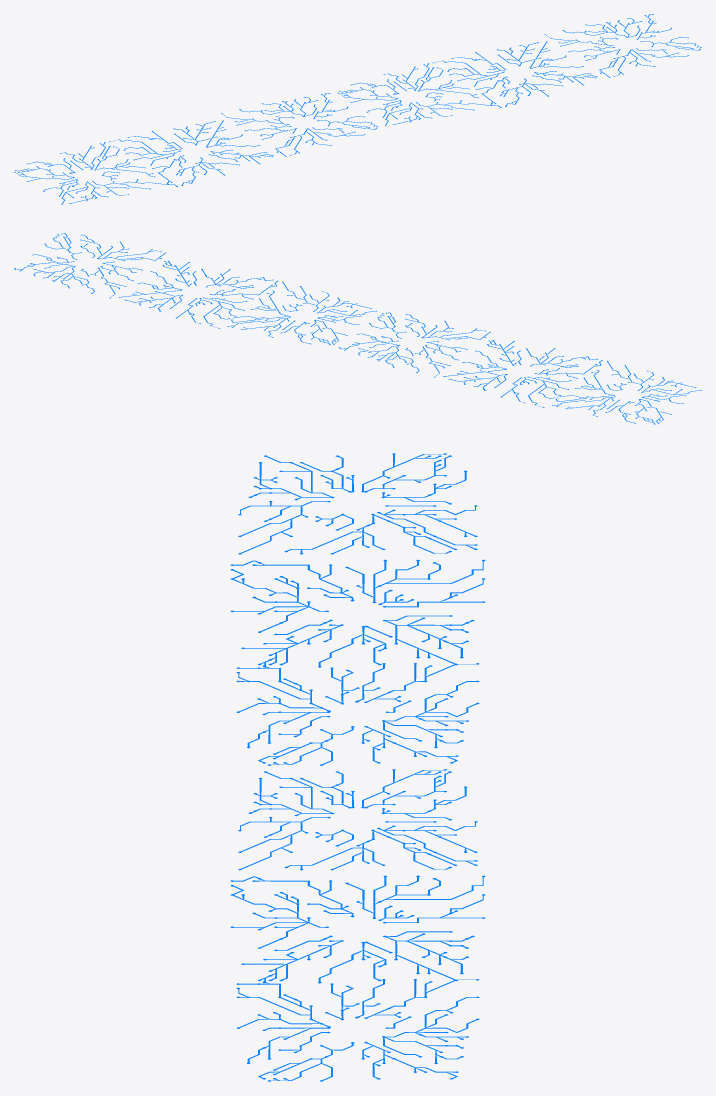
Rendered from Sci_fi_roof.fbx.
3 renders of one model, top to bottom at view 1: azimuth 30°, elevation 25°; view 2: azimuth 150°, elevation 25°; view 3: azimuth 270°, elevation 25°, orthographic. The views are drawn at different scales.
Parts seen in each view (by area): view 1: roof_decor_11.001; view 2: roof_decor_11.001; view 3: roof_decor_11.001.
Part boxes in pixels (x1,y1,x2,y2): roof_decor_11.001: [14, 14, 701, 204]; roof_decor_11.001: [14, 233, 701, 424]; roof_decor_11.001: [230, 453, 485, 1081].
Size of the model in its own units: 13134 by 44.1 by 2251.
